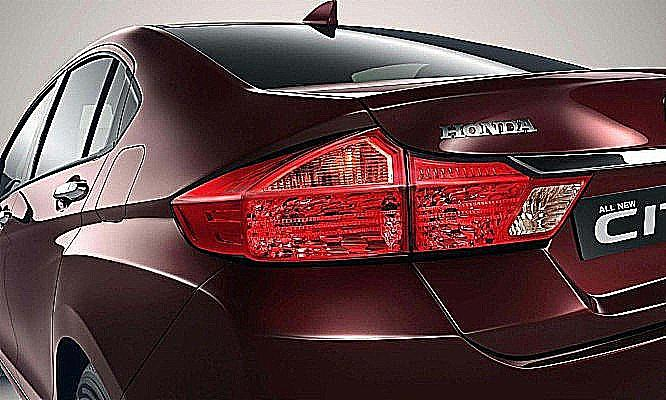Car boot: (273, 63, 666, 367)
Fender - -R-L-: (48, 76, 237, 400)
Passenger-s door - -F-L-: (0, 54, 66, 398)
Passenger-s door - -R-L-: (12, 37, 125, 400)
Rear bumper: (115, 252, 666, 400)
Rear light - -L-: (159, 121, 592, 273)
Side bumper - -L-: (0, 345, 50, 400)
